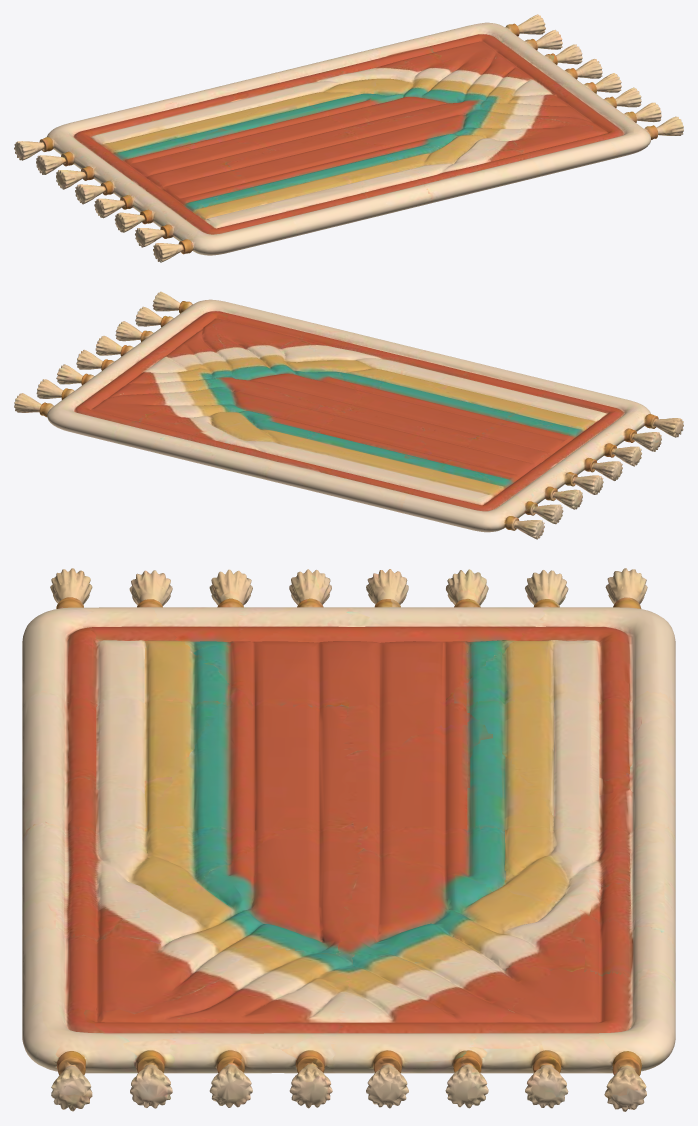
File: prayer-rug-variant-06-terracotta-nested-arches.glb
3 renders of one model, top to bottom at view 1: azimuth 30°, elevation 25°; view 2: azimuth 150°, elevation 25°; view 3: azimuth 270°, elevation 25°, orthographic. The views are drawn at different scales.
Visible parts, largest first — view 1: mesh_node; view 2: mesh_node; view 3: mesh_node.
Part boxes in pixels (bbox=[...]): mesh_node: bbox=[14, 14, 683, 262]; mesh_node: bbox=[14, 291, 683, 539]; mesh_node: bbox=[22, 568, 675, 1111].
Size of the model in its own units: 1.89 by 0.0652 by 1.02.
1 material, 1 textured.
